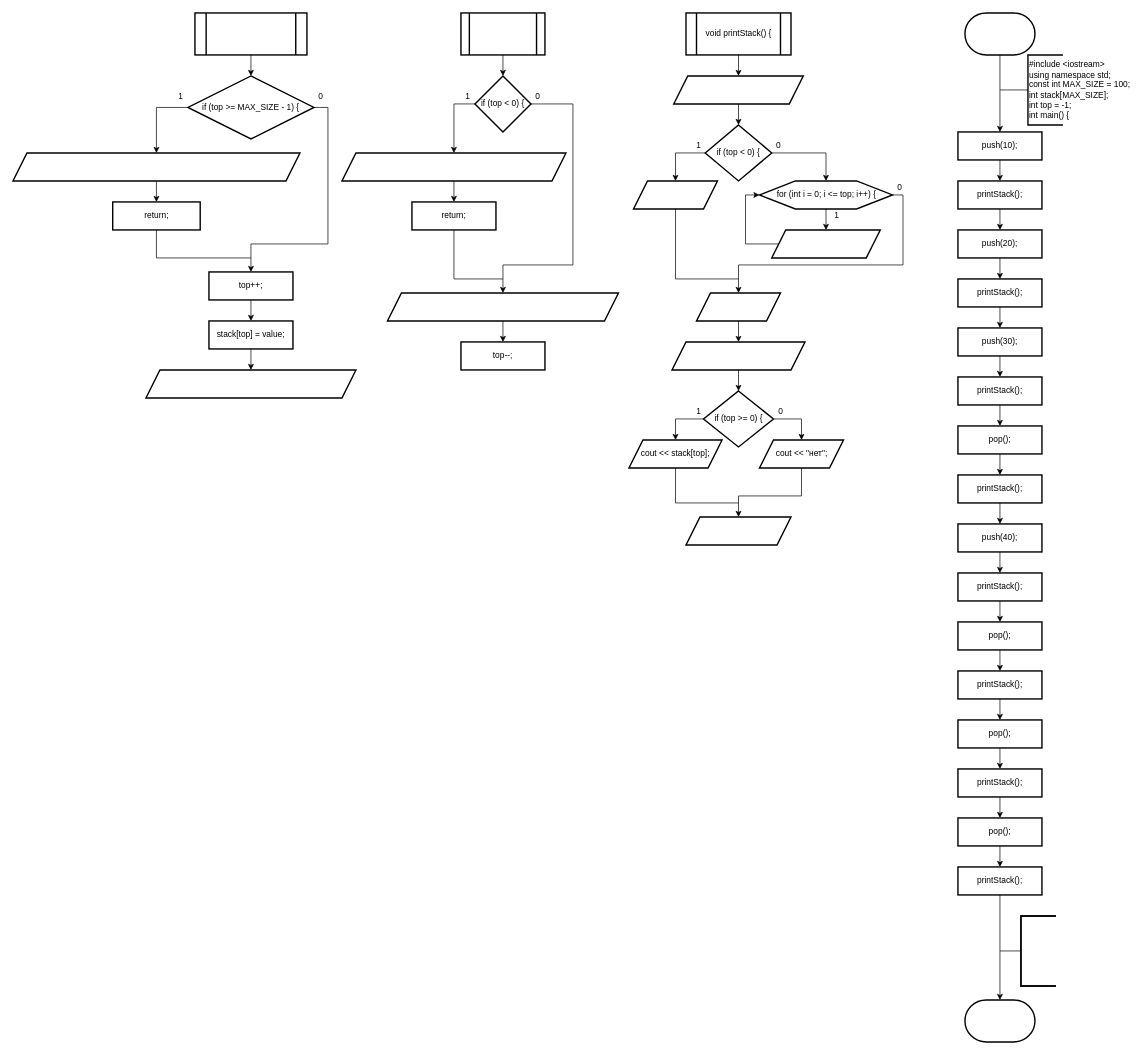
Some shapes in this 1142 by 1054 pixel diagram are drawn without their labels. The shapes that lost their labels are listed below. From the top down, each one's box as (x1, y1, x2, y2) in pixels, then its label:
(194, 12, 307, 55): void push(int value) {
(460, 12, 545, 55): void pop() {
(964, 12, 1035, 55): Начало
(673, 75, 804, 104): cout << "Сейчас в стеке: ";
(12, 152, 300, 181): cout << "Ой! Стек переполнен! Не могу добавить " << value << endl;
(341, 152, 566, 181): cout << "Ой! Стек пустой! Нечего удалять" << endl;
(632, 180, 718, 209): cout << "пусто!";
(771, 229, 881, 258): cout << stack[i] << " ";
(386, 292, 619, 321): cout << "Удалил " << stack[top] << " из стека" << endl;
(695, 292, 781, 321): cout << endl;
(671, 341, 805, 370): cout << "Верхний элемент: ";
(145, 369, 356, 398): cout << "Добавил " << value << " в стек" << endl;
(685, 516, 791, 545): cout << endl << endl;
(1020, 915, 1056, 986): return 0;
(964, 999, 1035, 1042): Конец
